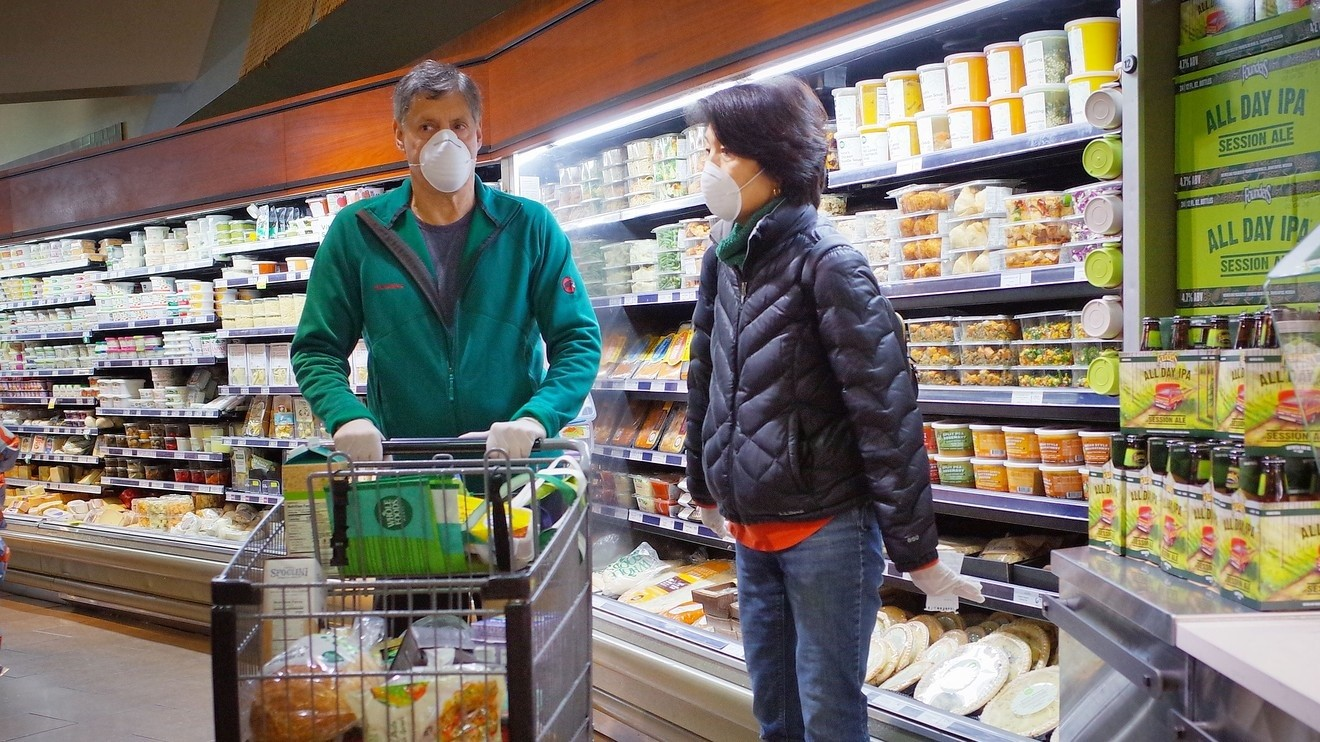face_with_mask: (683, 104, 784, 242), (388, 77, 489, 210)
